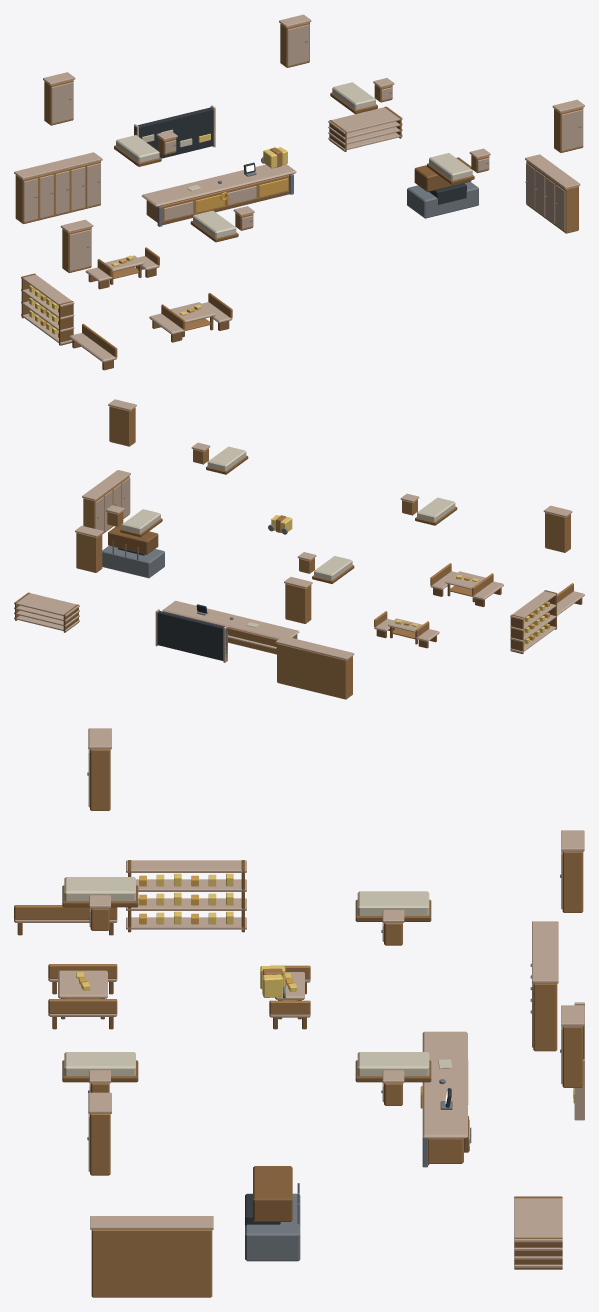
Rendered from lanternrest_road_inn.glb.
3 renders of one model, top to bottom at view 1: azimuth 30°, elevation 25°; view 2: azimuth 150°, elevation 25°; view 3: azimuth 270°, elevation 25°, orthographic. The views are drawn at different scales.
Size of the model in its own units: 26.28 by 6.1 by 16.55.
